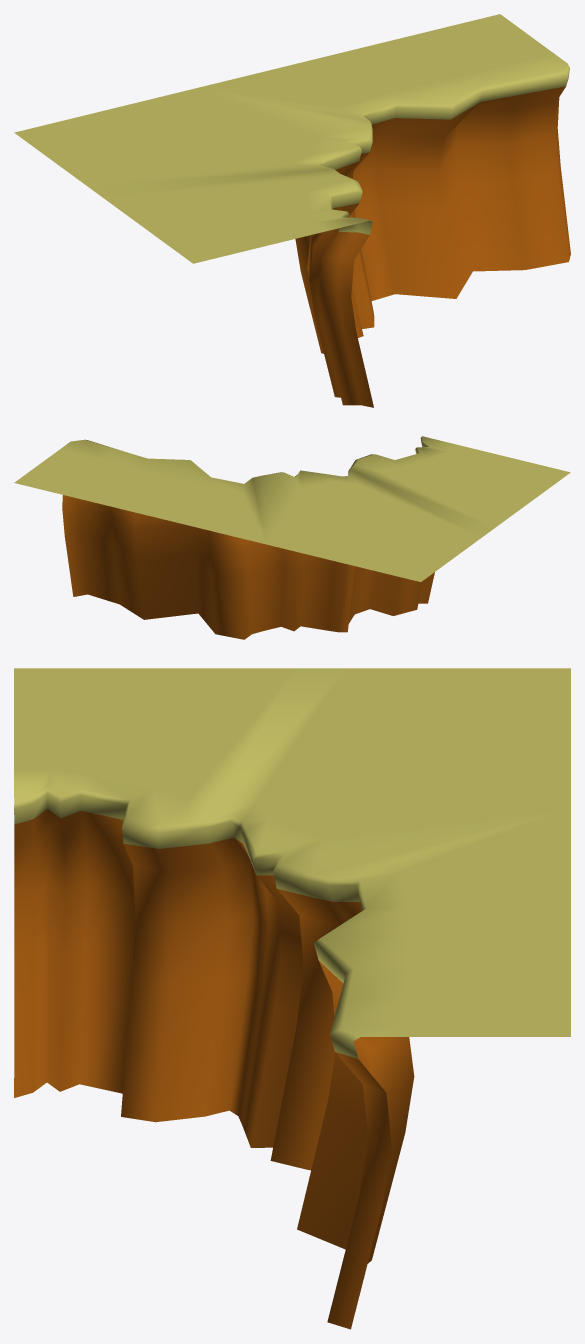
File: ground_02.fbx
3 views of the same model, one above another, from view 1: azimuth 30°, elevation 25°; view 2: azimuth 150°, elevation 25°; view 3: azimuth 270°, elevation 25° (orthographic). The views are drawn at different scales.
Parts seen in each view (by area): view 1: floor_tille.003; view 2: floor_tille.003; view 3: floor_tille.003.
Boxes of the visible parts, bbox=[...] form: floor_tille.003: bbox=[14, 14, 570, 407]; floor_tille.003: bbox=[14, 436, 570, 639]; floor_tille.003: bbox=[14, 668, 570, 1329].
Bounding box in the file's own units: 3232 × 1196 × 2064.
